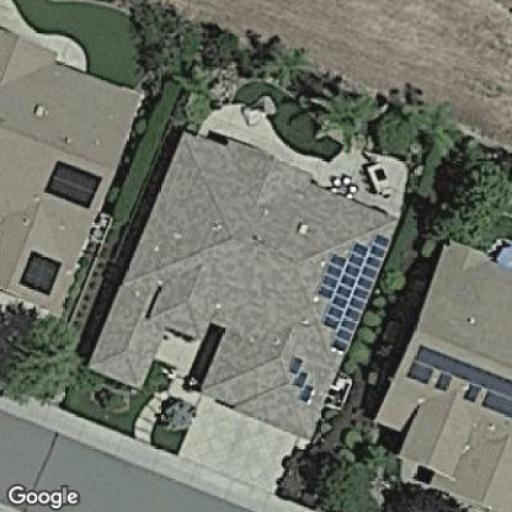solar-panel: (313, 232, 391, 353), (402, 340, 511, 417), (40, 157, 104, 211), (14, 245, 67, 299), (285, 354, 316, 405)
